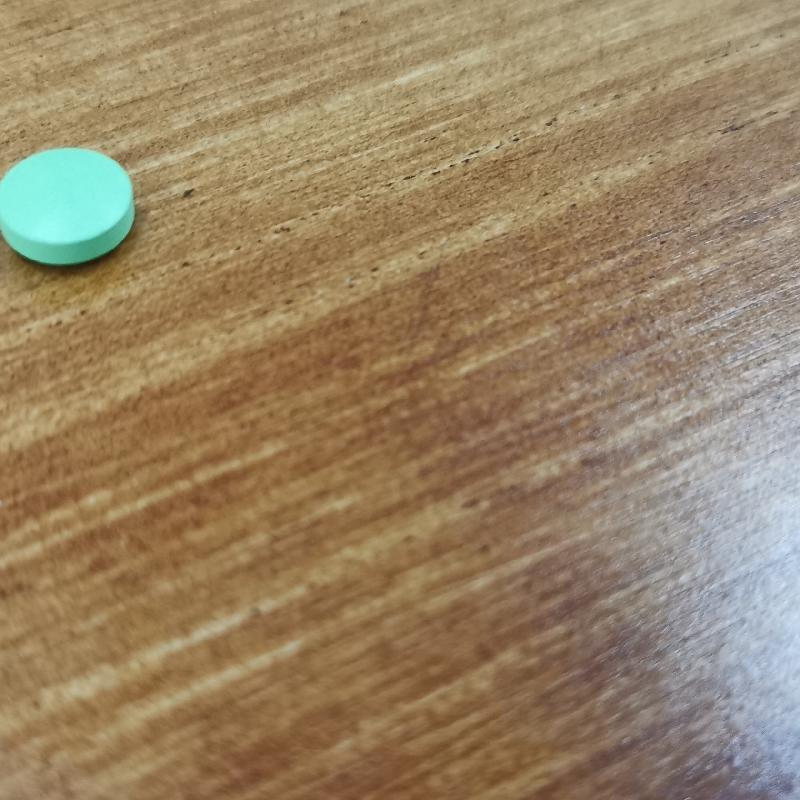pills: (3, 122, 149, 293)
